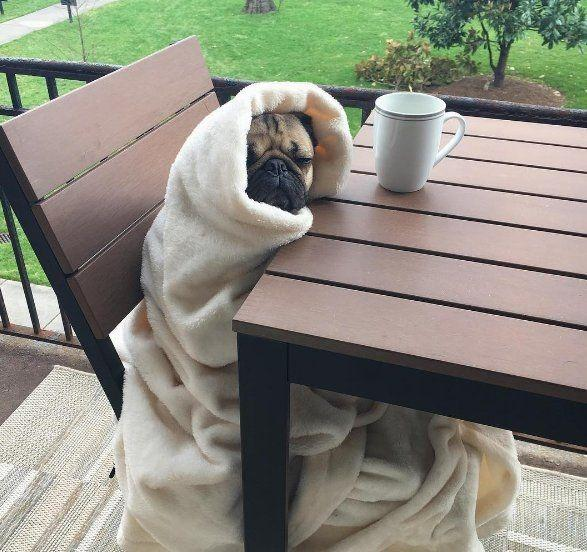adult_dog: (236, 109, 317, 215)
